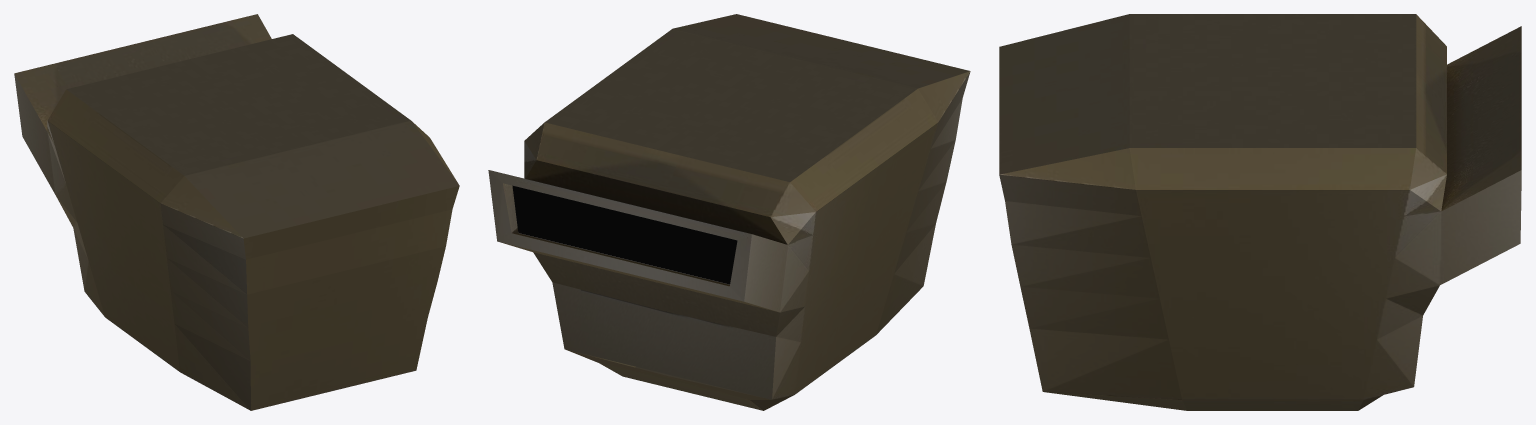
Rendered from launcher2.dae.
3 renders of one model, left to right at view 1: azimuth 30°, elevation 25°; view 2: azimuth 150°, elevation 25°; view 3: azimuth 270°, elevation 25°, orthographic. The views are drawn at different scales.
Parts seen in each view (by area): view 1: duallaunchers; view 2: duallaunchers; view 3: duallaunchers.
Part boxes in pixels (x1,y1,x2,y2): duallaunchers: (14,14,459,410); duallaunchers: (488,14,970,410); duallaunchers: (999,14,1521,410).
Bounding box in the file's own units: 2.41 × 3.35 × 2.06.
Materials: 1 (1 with a texture image).
